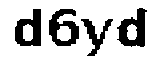6: (46, 5, 82, 49)
d: (115, 6, 151, 54), (11, 6, 43, 50)
y: (81, 16, 113, 60)
